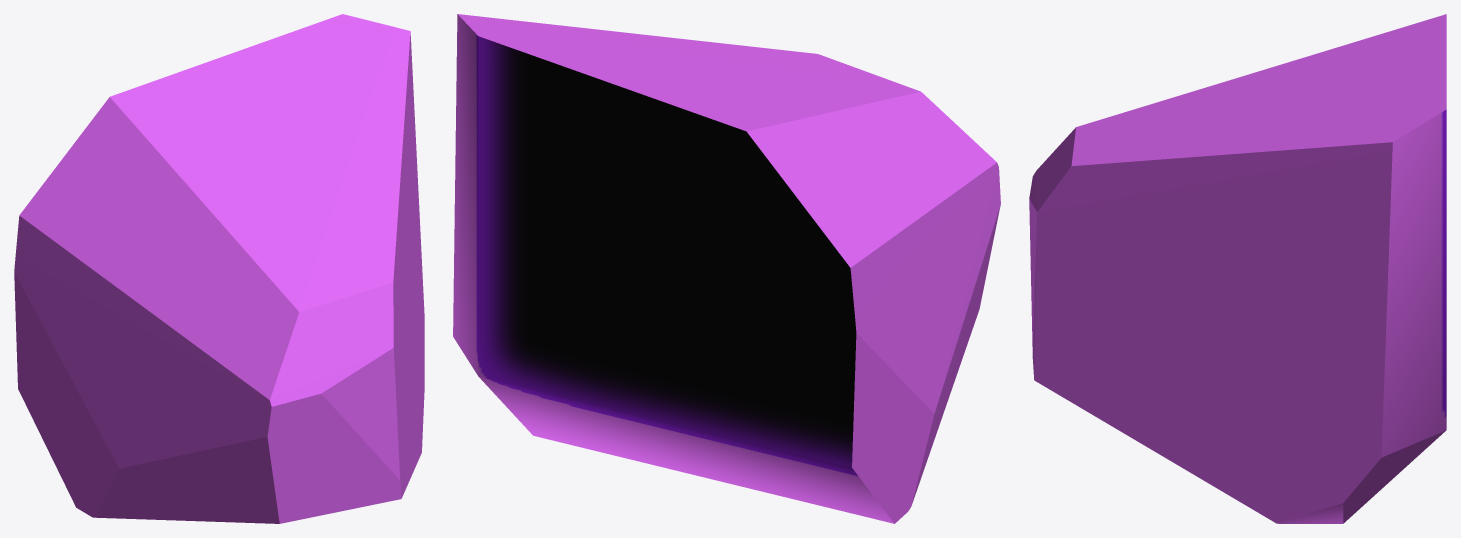
The model's file is blockParticle_16.gltf.
The picture shows the model from 3 angles, left to right: view 1: azimuth 30°, elevation 25°; view 2: azimuth 150°, elevation 25°; view 3: azimuth 270°, elevation 25°; orthographic projection. The views are drawn at different scales.
Parts seen in each view (by area): view 1: 立方体_cell.018; view 2: 立方体_cell.018; view 3: 立方体_cell.018.
Boxes of the visible parts, x1,y1,x2,y2 form: 立方体_cell.018: (14,14,424,523); 立方体_cell.018: (453,14,1000,523); 立方体_cell.018: (1029,14,1446,523).
Size of the model in its own units: 0.9766 by 0.9372 by 0.8551.
Materials: 2 (2 with a texture image).
